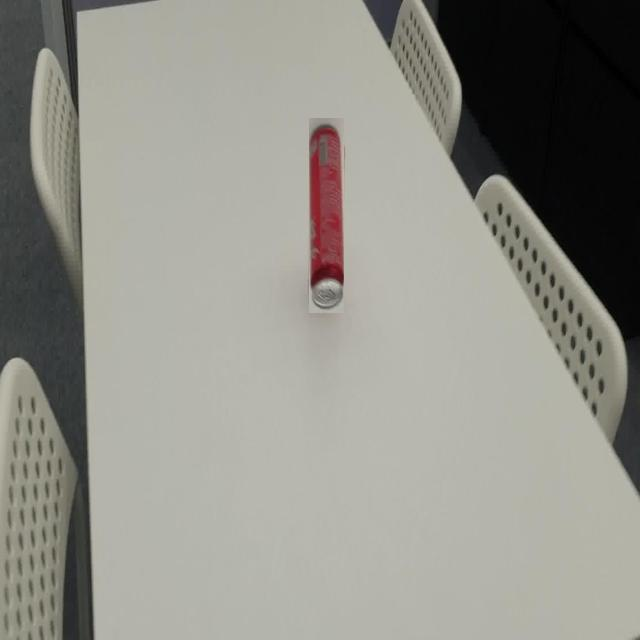coca-cola: (309, 118, 344, 313)
